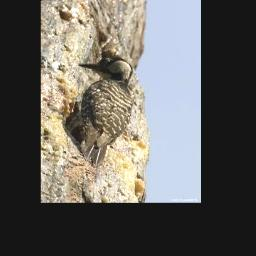Woodpecker: (64, 54, 134, 169)
